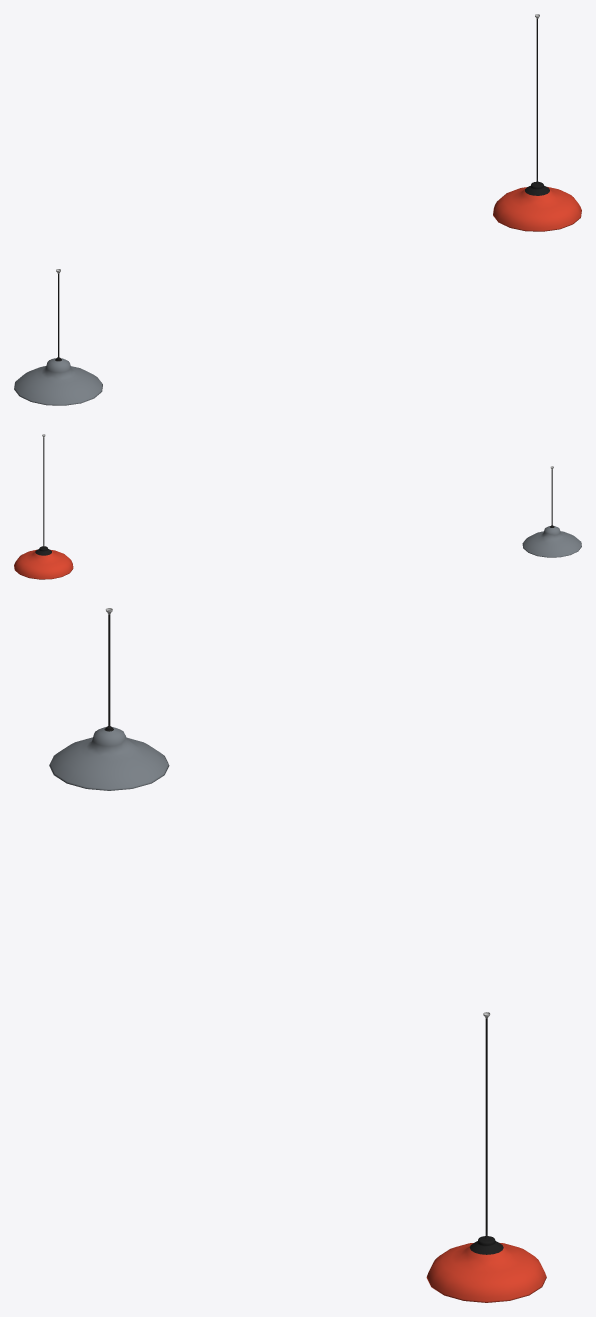
Rendered from Ceiling Lamps.fbx.
3 renders of one model, top to bottom at view 1: azimuth 30°, elevation 25°; view 2: azimuth 150°, elevation 25°; view 3: azimuth 270°, elevation 25°, orthographic. The views are drawn at different scales.
Visible parts, largest first — view 1: Hall_Ceiling_Lamp, Hall_Ceiling_Lamp_001; view 2: Hall_Ceiling_Lamp, Hall_Ceiling_Lamp_001; view 3: Hall_Ceiling_Lamp, Hall_Ceiling_Lamp_001.
Part boxes in pixels (x1,y1,x2,y2): Hall_Ceiling_Lamp: [493, 14, 581, 231]; Hall_Ceiling_Lamp_001: [14, 269, 102, 405]; Hall_Ceiling_Lamp: [14, 434, 73, 579]; Hall_Ceiling_Lamp_001: [522, 466, 581, 557]; Hall_Ceiling_Lamp: [426, 1012, 546, 1302]; Hall_Ceiling_Lamp_001: [49, 608, 169, 790].
Size of the model in its own units: 16.54 by 4.52 by 7.65.
